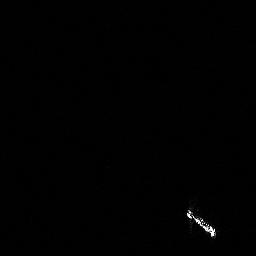ship: (183, 205, 219, 241)
